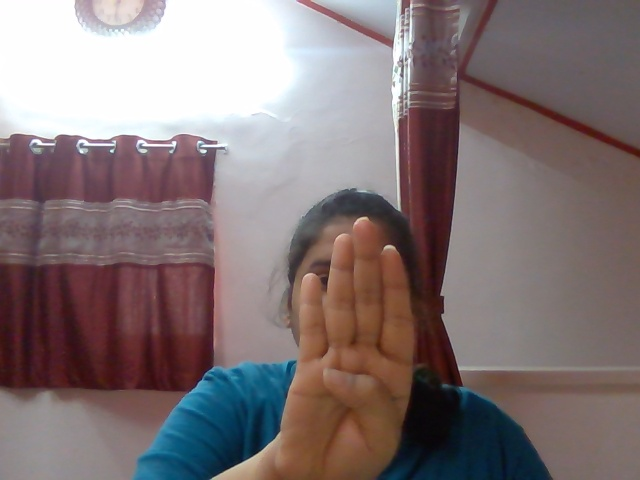b: (267, 202, 426, 479)
